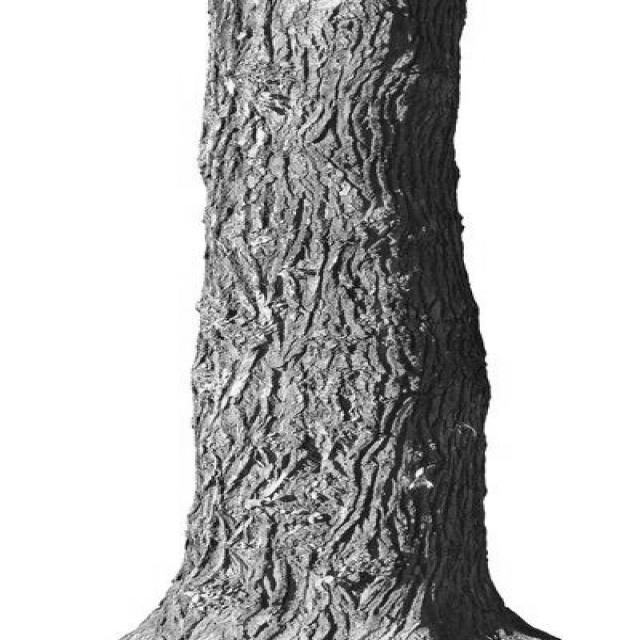Tree: (123, 0, 555, 639)
